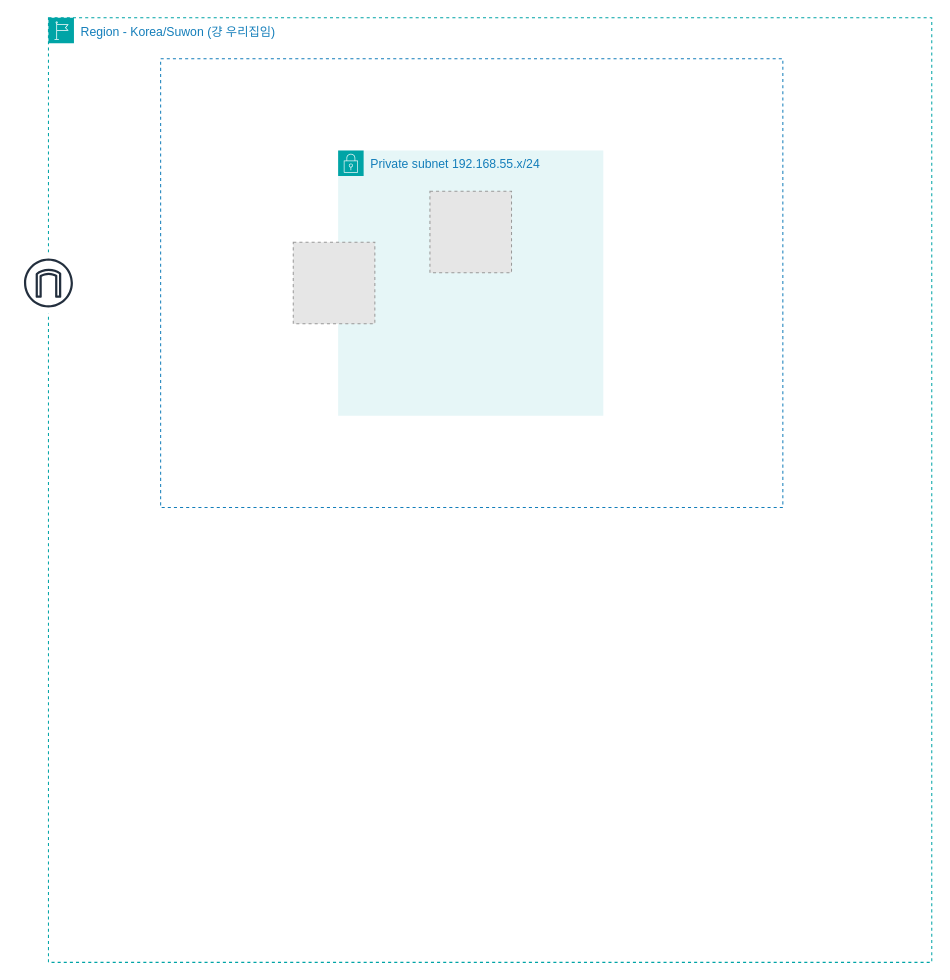
Some shapes in this 950 by 980 pixel diagram are drawn without their labels. Grey dashed boxes stand in for pictures. Here are the shapes that lost their labels. From the top down, the box of each, then its label:
(17, 251, 79, 314): Internet gateway
(160, 58, 783, 507): Availability Zone
